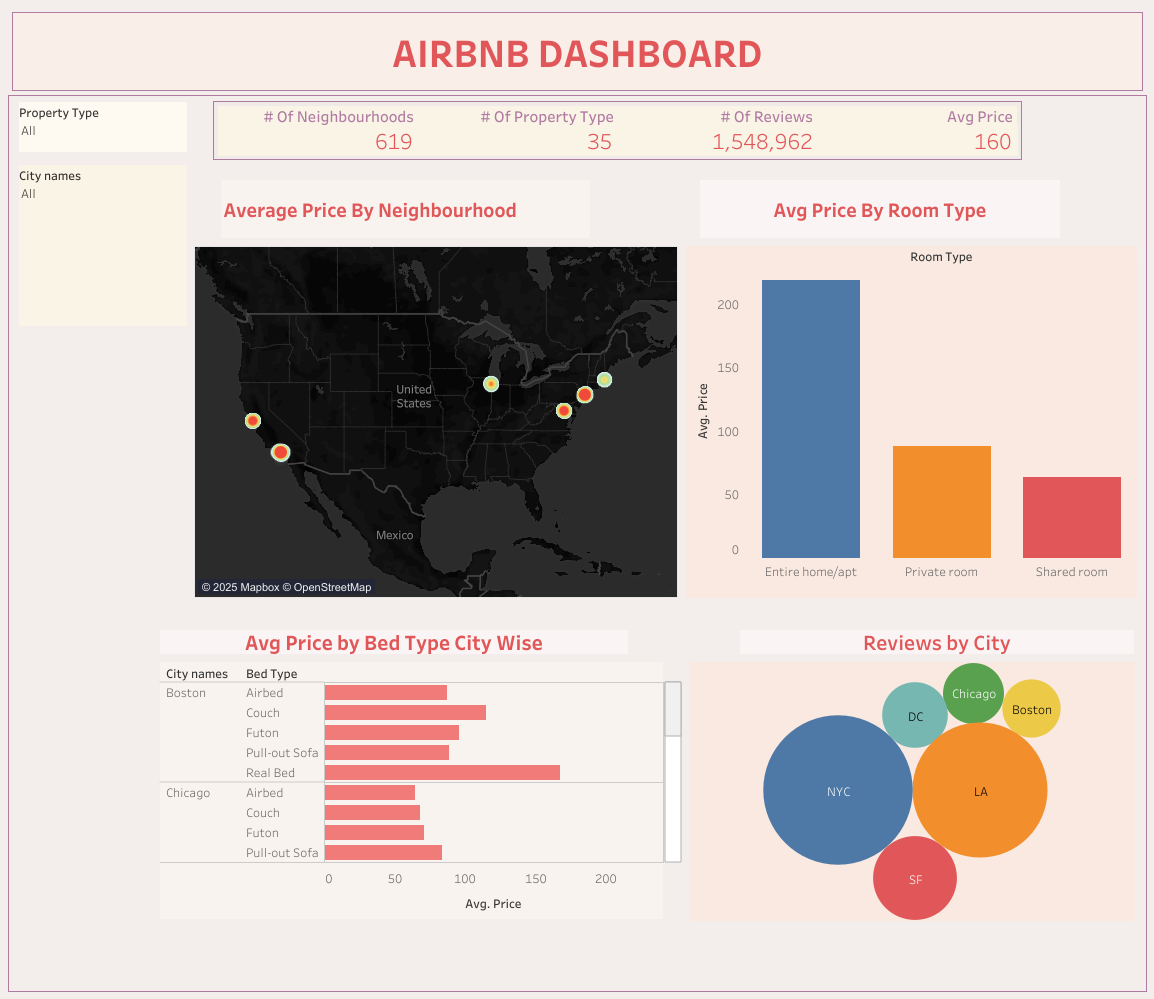

The dashboard page shown, as its layout file describes it:
{"tool":"tableau","page":{"name":"Airbnb Dashboard","canvas":[1155,1000],"ordinal":0},"visuals":[{"type":"text","box":[8,8,1139,86.8]},{"type":"filter","title":"Average price by neighbourhood","param":"[federated.03e2qp5145hky813fci8f0osnsys].[none:property_type:nk]","box":[19,102,168,50]},{"type":"worksheet","title":"KPI","mark":"Automatic","box":[214,102,807,57]},{"type":"filter","title":"Average price by neighbourhood","param":"[federated.03e2qp5145hky813fci8f0osnsys].[none:Calculation_371265501217189888:nk","box":[19,165,168,161]},{"type":"text","box":[217,176,377,66]},{"type":"blank","box":[594,176,102,66]},{"type":"text","box":[696,176,368,66]},{"type":"worksheet","title":"Average price by neighbourhood","mark":"Heatmap","rows":["latitude"],"cols":["longitude"],"box":[190,242,492,360]},{"type":"worksheet","title":"Average price by room type","mark":"Automatic","rows":["Price"],"cols":["room_type"],"box":[682,242,459,360]},{"type":"text","box":[156,626,476,32]},{"type":"blank","box":[632,626,104,32]},{"type":"text","box":[736,626,402,32]},{"type":"worksheet","title":"avg price by bed type","mark":"Automatic","rows":["Calculation_371265501217189888","bed_type"],"cols":["Price"],"box":[156,658,530,266]},{"type":"worksheet","title":"Citiy with number of reviews","mark":"Circle","box":[686,658,452,266]}]}

Visuals, with their boxes in screenshot pixels (x1, y1, x2, y2), scaled from the page's 1155x1000 canvas onto the 1154x999 screenshot:
text: locate(8, 8, 1146, 95)
"Average price by neighbourhood" filter: locate(19, 102, 187, 152)
"KPI" worksheet: locate(214, 102, 1020, 159)
"Average price by neighbourhood" filter: locate(19, 165, 187, 326)
text: locate(217, 176, 593, 242)
blank: locate(593, 176, 695, 242)
text: locate(695, 176, 1063, 242)
"Average price by neighbourhood" worksheet (Heatmap marks): locate(190, 242, 681, 601)
"Average price by room type" worksheet: locate(681, 242, 1140, 601)
text: locate(156, 625, 631, 657)
blank: locate(631, 625, 735, 657)
text: locate(735, 625, 1137, 657)
"avg price by bed type" worksheet: locate(156, 657, 685, 923)
"Citiy with number of reviews" worksheet (Circle marks): locate(685, 657, 1137, 923)
